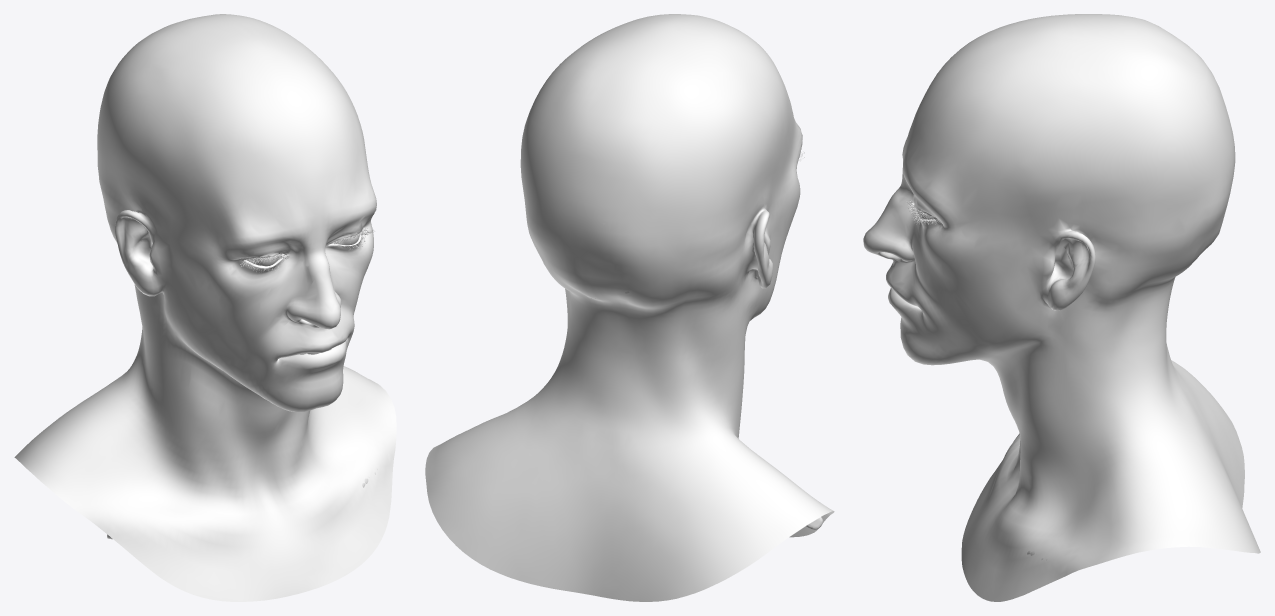
Rendered from 头骨_Bones embedded into the face volume_V9.9.2_Ultimate_std_opt.glb.
3 views of the same model, side by side, from view 1: azimuth 30°, elevation 25°; view 2: azimuth 150°, elevation 25°; view 3: azimuth 270°, elevation 25° (orthographic). The views are drawn at different scales.
Visible parts, largest first — view 1: esclera_Translucido_0; view 2: esclera_Translucido_0; view 3: esclera_Translucido_0.
Boxes of the visible parts, x1=… form: esclera_Translucido_0: x1=14, y1=14, x2=396, y2=601; esclera_Translucido_0: x1=425, y1=14, x2=834, y2=601; esclera_Translucido_0: x1=863, y1=14, x2=1260, y2=601.
Bounding box in the file's own units: 0.2917 × 0.4 × 0.2692.
Materials: 3 (2 with a texture image).
